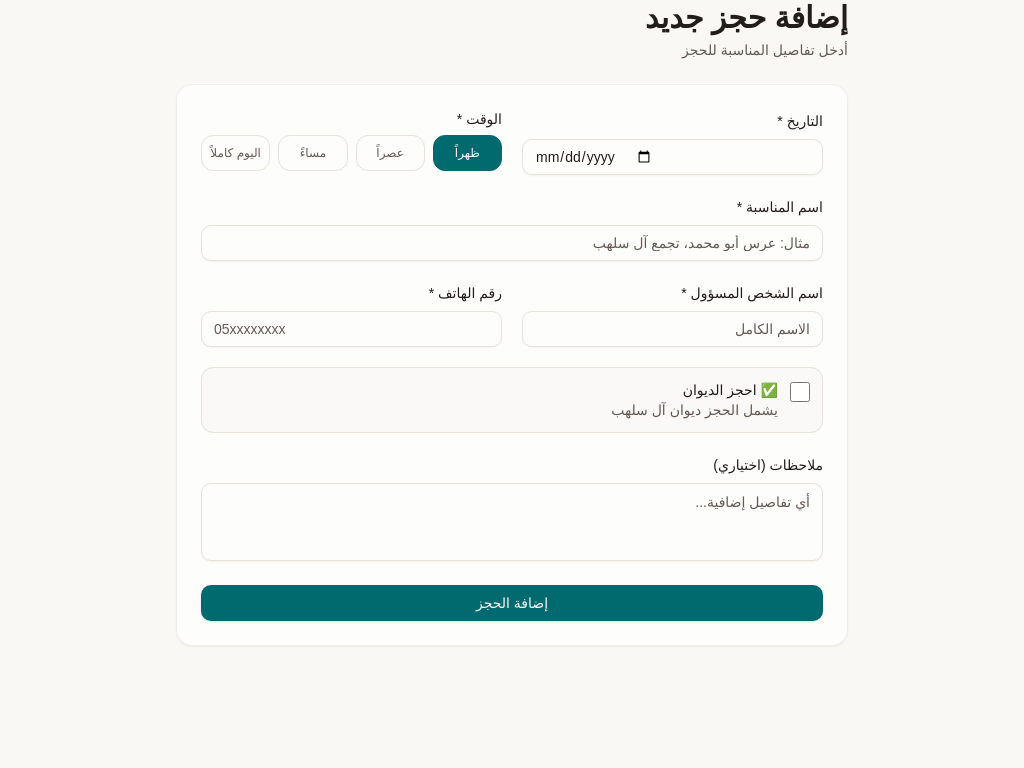
Test case: AddBookingPage: conflicts › warns about a same-slot booking and can be cancelled
Type "2099-07-01" into the date field labelled "التاريخ *".
click(672, 157); type("2099-07-01")  # box [522,139,823,175]
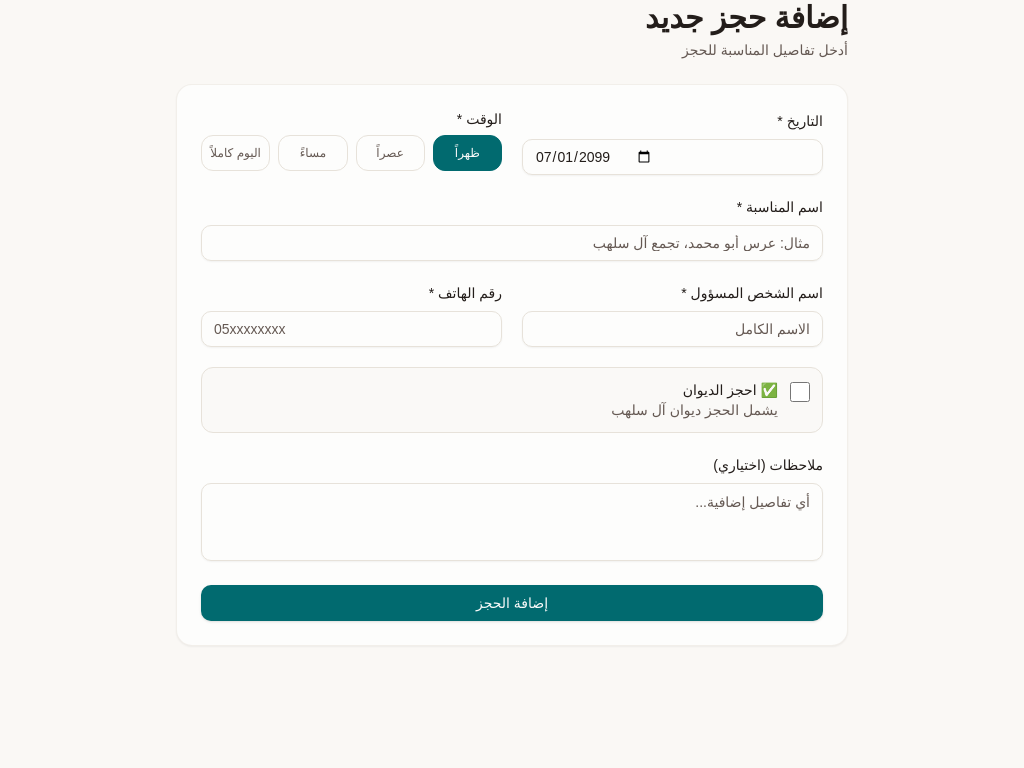
Type "عرس" into the field labelled "اسم المناسبة *".
click(512, 243); type("عرس")  # box [201,225,823,261]
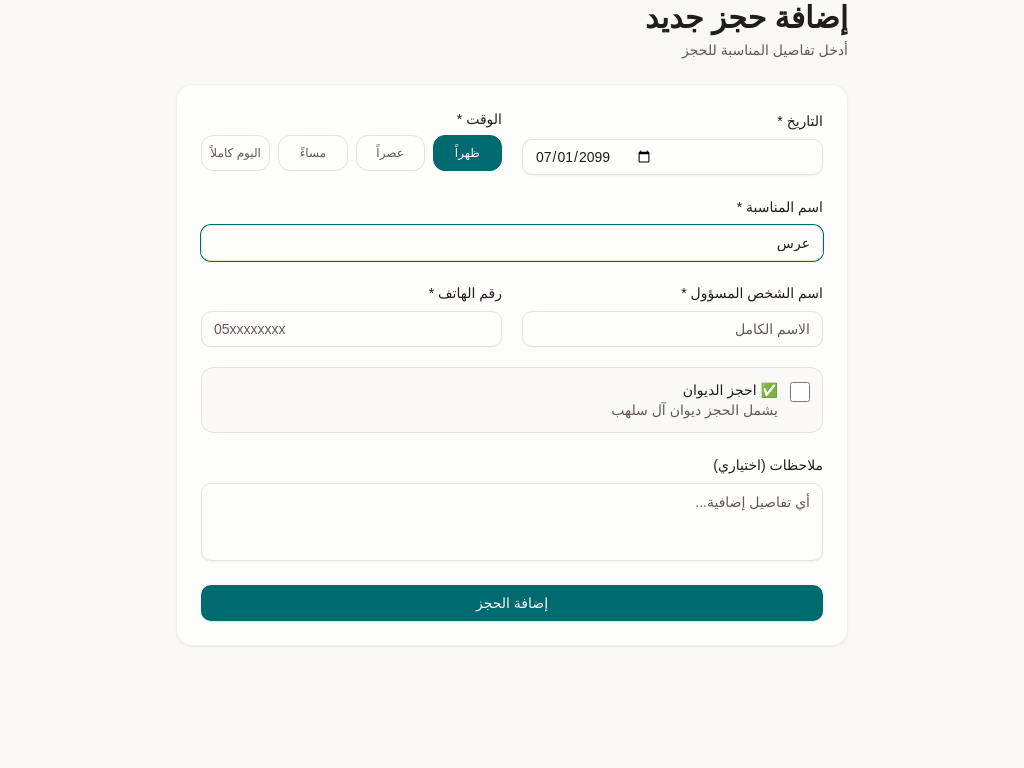
Type "أحمد" into the field labelled "اسم الشخص المسؤول *".
click(672, 329); type("أحمد")  # box [522,311,823,347]
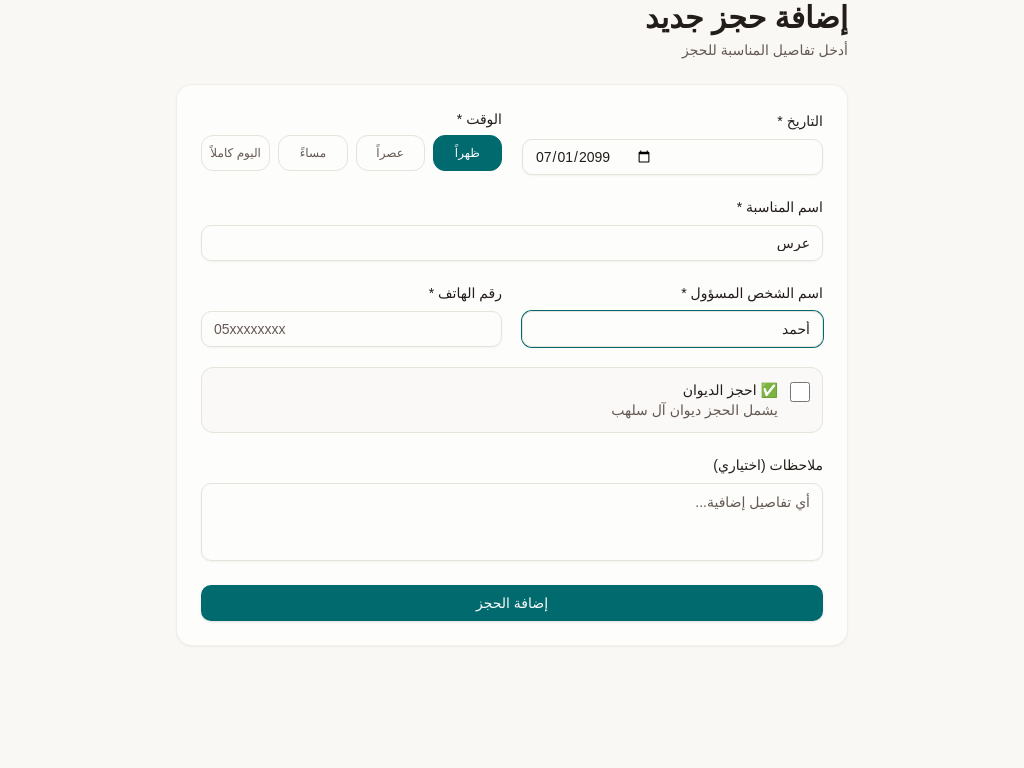
Type "0501234567" into the field labelled "رقم الهاتف *".
click(352, 329); type("0501234567")  # box [201,311,502,347]
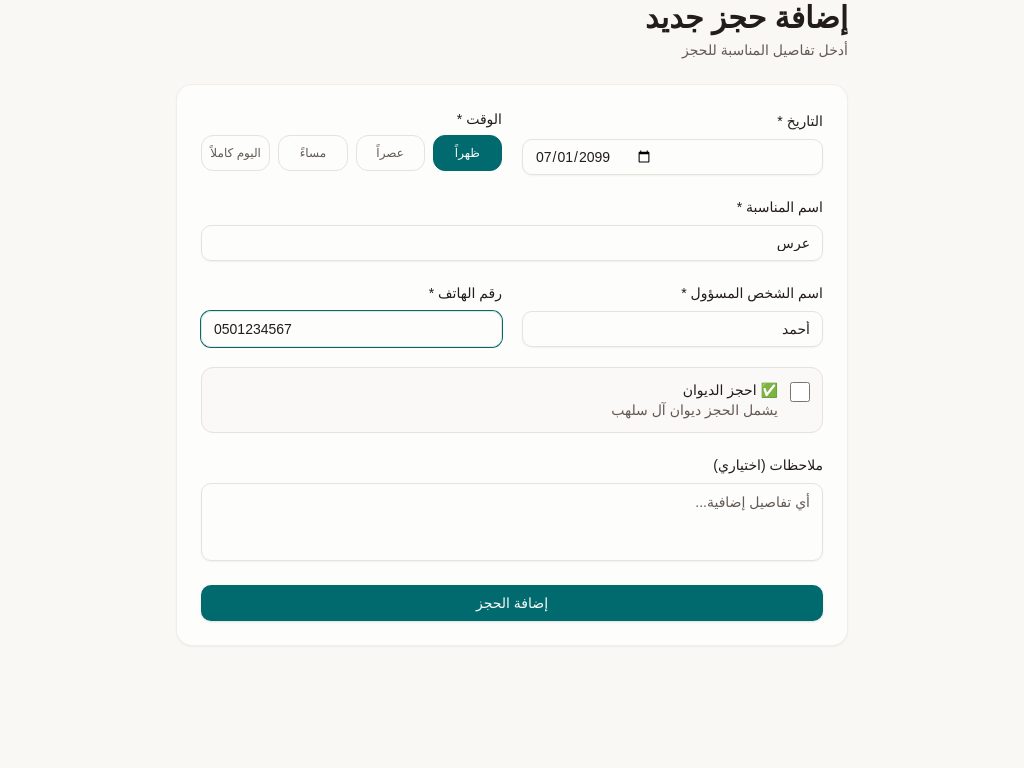
Click the button "إضافة الحجز".
click(512, 603)  # box [201,585,823,621]
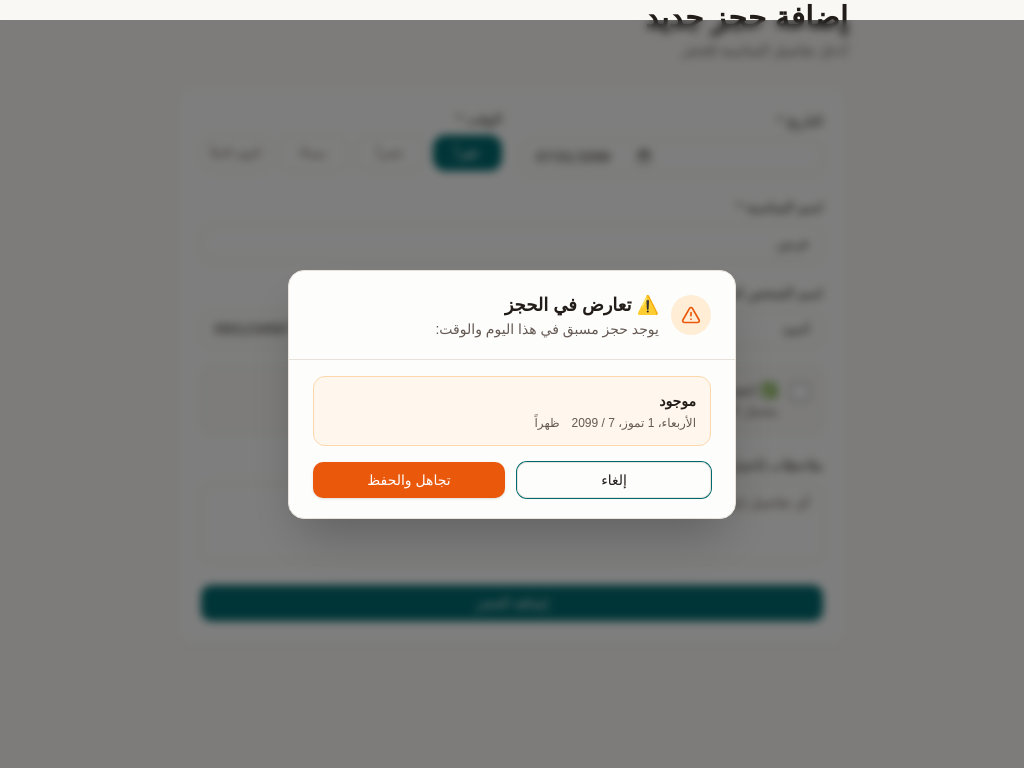
Expected: the heading "⚠️ تعارض في الحجز" is shown, [505,294,659,314]
Expected: the text "موجود" is shown, [659,392,696,408]
Click the button "إلغاء".
click(614, 480)  # box [517,462,711,498]
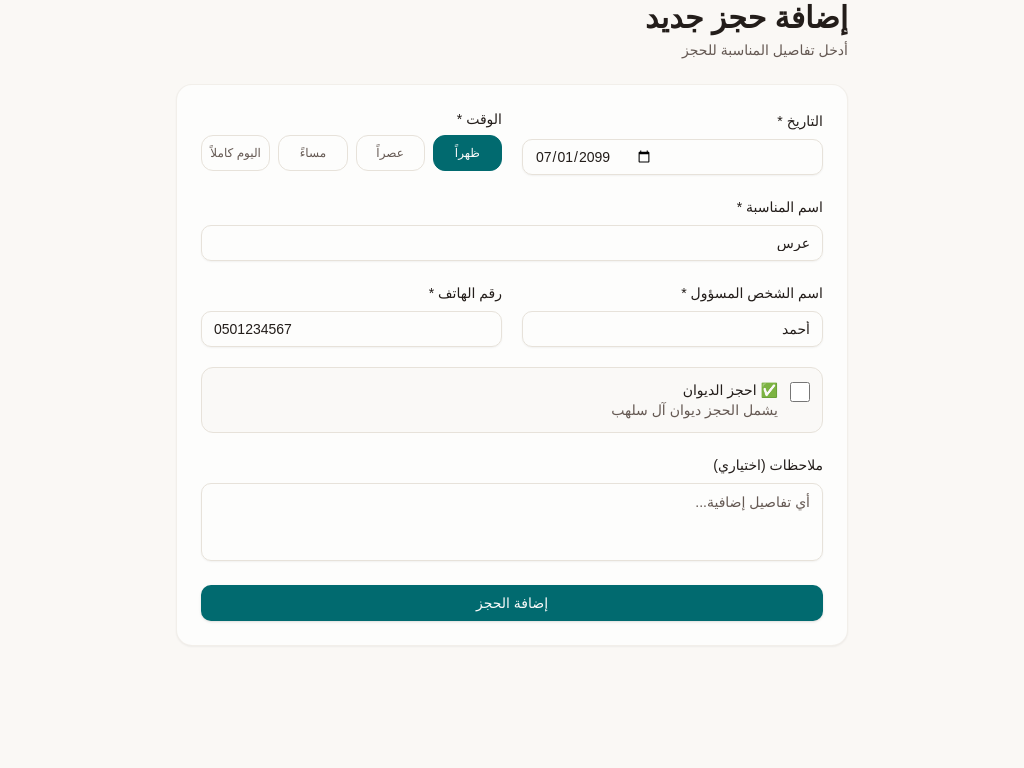
Expected: the heading "⚠️ تعارض في الحجز" is gone
